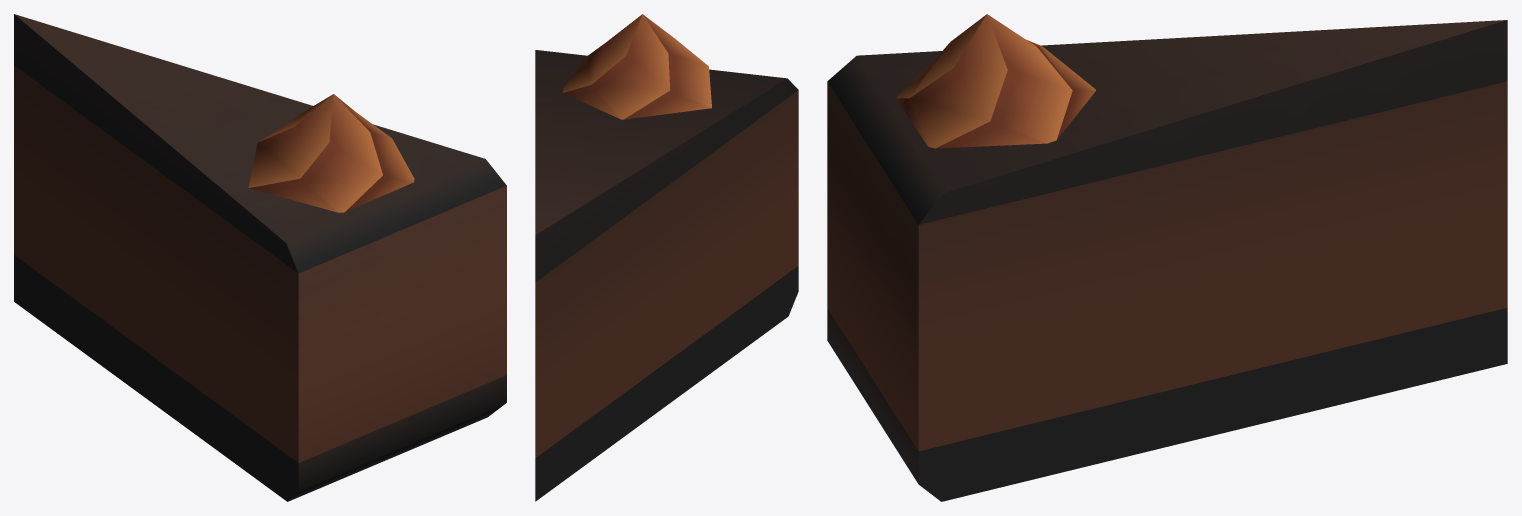
Rendered from m_ChocolateCheeseCake02_Slice.fbx.
The picture shows the model from 3 angles, left to right: view 1: azimuth 30°, elevation 25°; view 2: azimuth 150°, elevation 25°; view 3: azimuth 270°, elevation 25°; orthographic projection. The views are drawn at different scales.
Parts seen in each view (by area): view 1: m_ChocolateCheeseCake02_Slice; view 2: m_ChocolateCheeseCake02_Slice; view 3: m_ChocolateCheeseCake02_Slice.
Part boxes in pixels (x1,y1,x2,y2): m_ChocolateCheeseCake02_Slice: (14, 14, 506, 501); m_ChocolateCheeseCake02_Slice: (535, 14, 798, 501); m_ChocolateCheeseCake02_Slice: (827, 14, 1507, 501).
Size of the model in its own units: 7 by 9.3 by 14.
